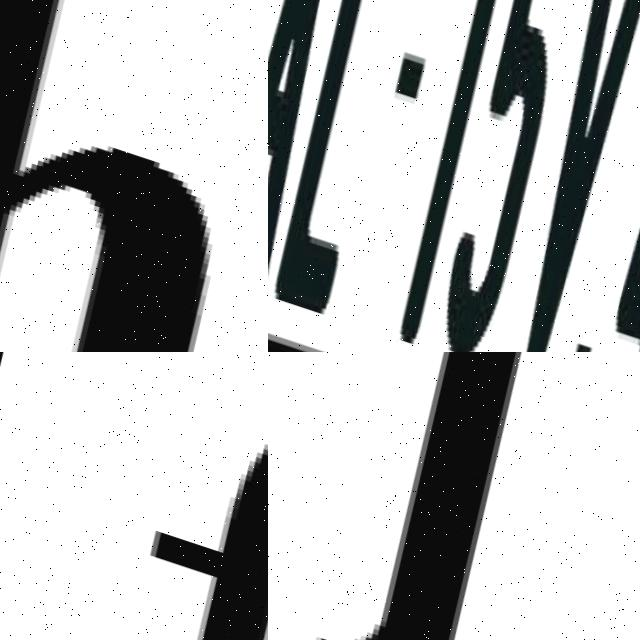1: (313, 0, 578, 349)
4: (524, 0, 640, 352)
5: (375, 0, 638, 352)
A: (268, 0, 426, 289)
F: (13, 352, 268, 640)
L: (268, 352, 640, 640), (268, 0, 480, 337)
V: (431, 0, 640, 352)
